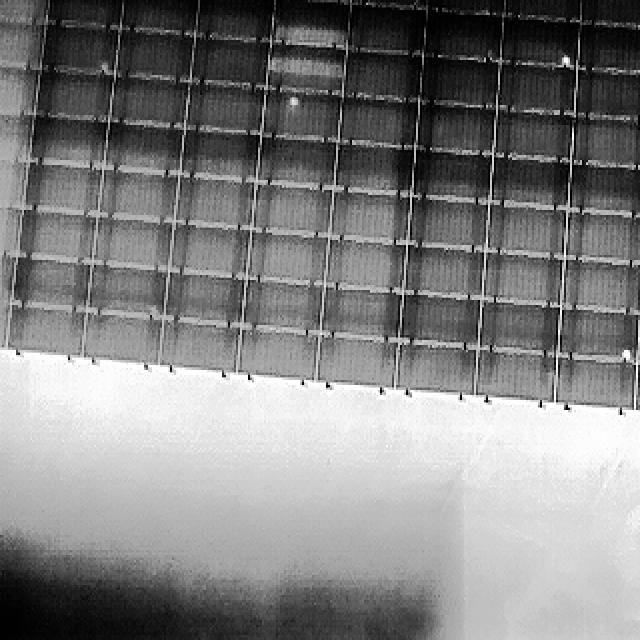Hotspots: (616, 340, 640, 372), (556, 50, 577, 69), (284, 95, 302, 110)
PV-modules: (156, 318, 240, 377), (473, 344, 558, 402), (236, 324, 320, 382), (239, 276, 322, 334), (482, 252, 566, 309), (552, 356, 634, 414), (250, 183, 333, 240), (312, 333, 398, 388), (246, 231, 330, 287), (478, 302, 562, 358), (82, 314, 166, 370), (163, 270, 244, 328), (329, 188, 410, 246), (562, 205, 640, 265), (96, 170, 178, 227), (557, 255, 639, 312), (412, 104, 494, 161), (90, 218, 173, 274), (393, 341, 477, 396), (316, 284, 400, 339), (16, 206, 97, 263), (408, 147, 489, 204), (403, 194, 485, 250), (488, 202, 567, 260), (394, 295, 477, 350), (322, 238, 403, 294), (497, 61, 578, 117), (330, 142, 412, 197), (88, 264, 171, 318), (402, 247, 483, 302), (493, 110, 575, 164), (168, 226, 247, 282), (555, 309, 635, 364), (23, 164, 103, 219), (112, 29, 192, 84), (178, 127, 258, 182), (104, 123, 184, 178), (173, 178, 254, 232), (492, 158, 570, 214), (253, 136, 335, 189), (182, 79, 261, 134), (7, 306, 86, 361), (32, 64, 112, 118), (186, 34, 266, 88), (338, 97, 418, 151), (503, 17, 581, 72), (340, 50, 419, 104), (25, 117, 105, 170), (260, 91, 339, 144), (420, 57, 500, 109), (420, 13, 500, 65), (11, 257, 88, 311), (106, 74, 184, 127), (342, 5, 420, 57), (268, 45, 346, 97), (268, 0, 348, 50), (568, 165, 640, 220), (40, 26, 118, 75), (570, 115, 640, 167), (574, 65, 640, 120), (0, 68, 34, 168), (576, 25, 640, 75), (192, 0, 272, 40), (118, 0, 200, 35), (46, 0, 122, 28), (0, 22, 41, 72), (0, 62, 36, 117), (580, 0, 640, 28), (0, 112, 31, 166), (428, 0, 506, 20), (504, 0, 582, 20), (0, 157, 23, 213), (0, 0, 46, 25), (0, 201, 19, 257), (346, 0, 426, 10), (632, 362, 640, 418), (274, 0, 356, 5), (634, 315, 640, 367), (638, 265, 640, 320)
